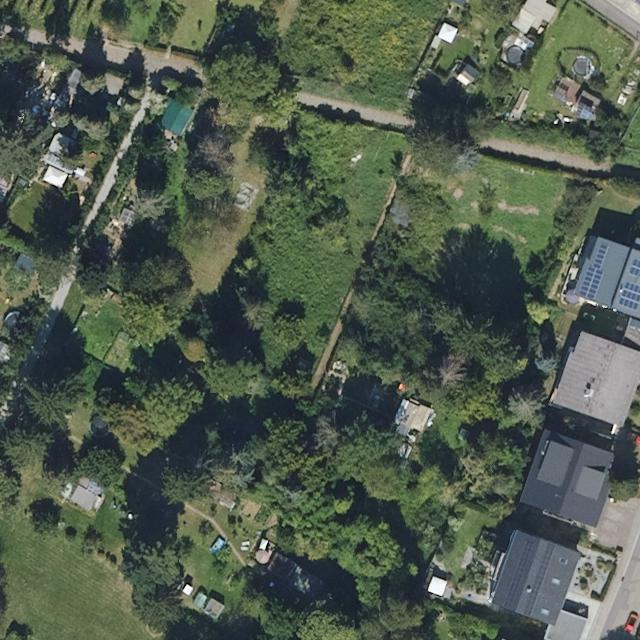PV: (500, 536, 537, 612), (522, 540, 556, 620), (578, 238, 611, 302), (614, 256, 639, 313)
